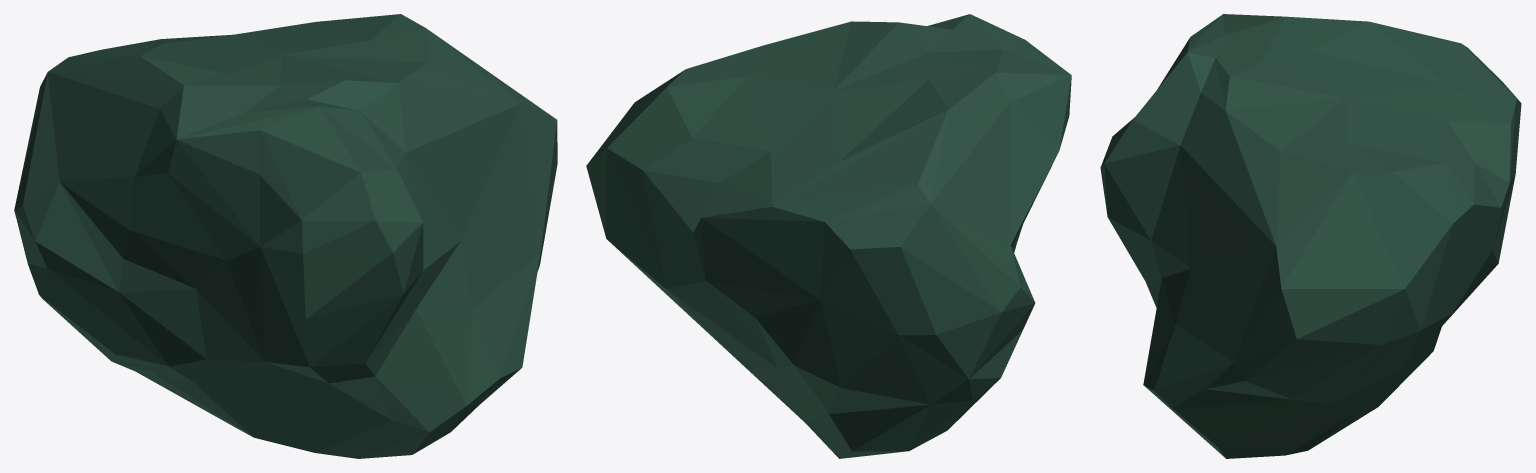
File: SM_large_rock_42.fbx
3 views of the same model, side by side, from view 1: azimuth 30°, elevation 25°; view 2: azimuth 150°, elevation 25°; view 3: azimuth 270°, elevation 25° (orthographic). The views are drawn at different scales.
Visible parts, largest first — view 1: large_rock_42; view 2: large_rock_42; view 3: large_rock_42.
Part boxes in pixels (<box>): large_rock_42: <box>14,14,557,458</box>; large_rock_42: <box>586,14,1071,458</box>; large_rock_42: <box>1100,14,1521,458</box>.
Size of the model in its own units: 110 by 89.43 by 94.36.
